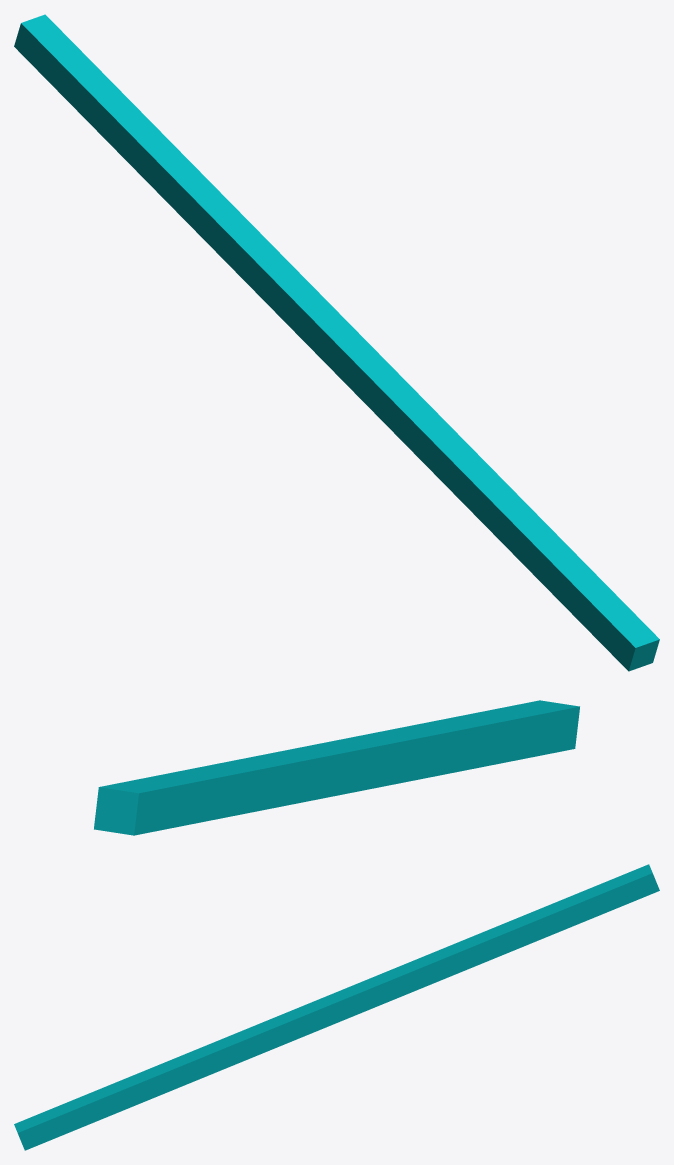
File: beam.fbx
3 views of the same model, one above another, from view 1: azimuth 30°, elevation 25°; view 2: azimuth 150°, elevation 25°; view 3: azimuth 270°, elevation 25° (orthographic). The views are drawn at different scales.
Visible parts, largest first — view 1: BP_beam; view 2: BP_beam; view 3: BP_beam.
Boxes of the visible parts, x1,y1,x2,y2 form: BP_beam: [14, 14, 659, 671]; BP_beam: [94, 700, 579, 835]; BP_beam: [14, 864, 659, 1150].
Bounding box in the file's own units: 157 × 753 × 297.
